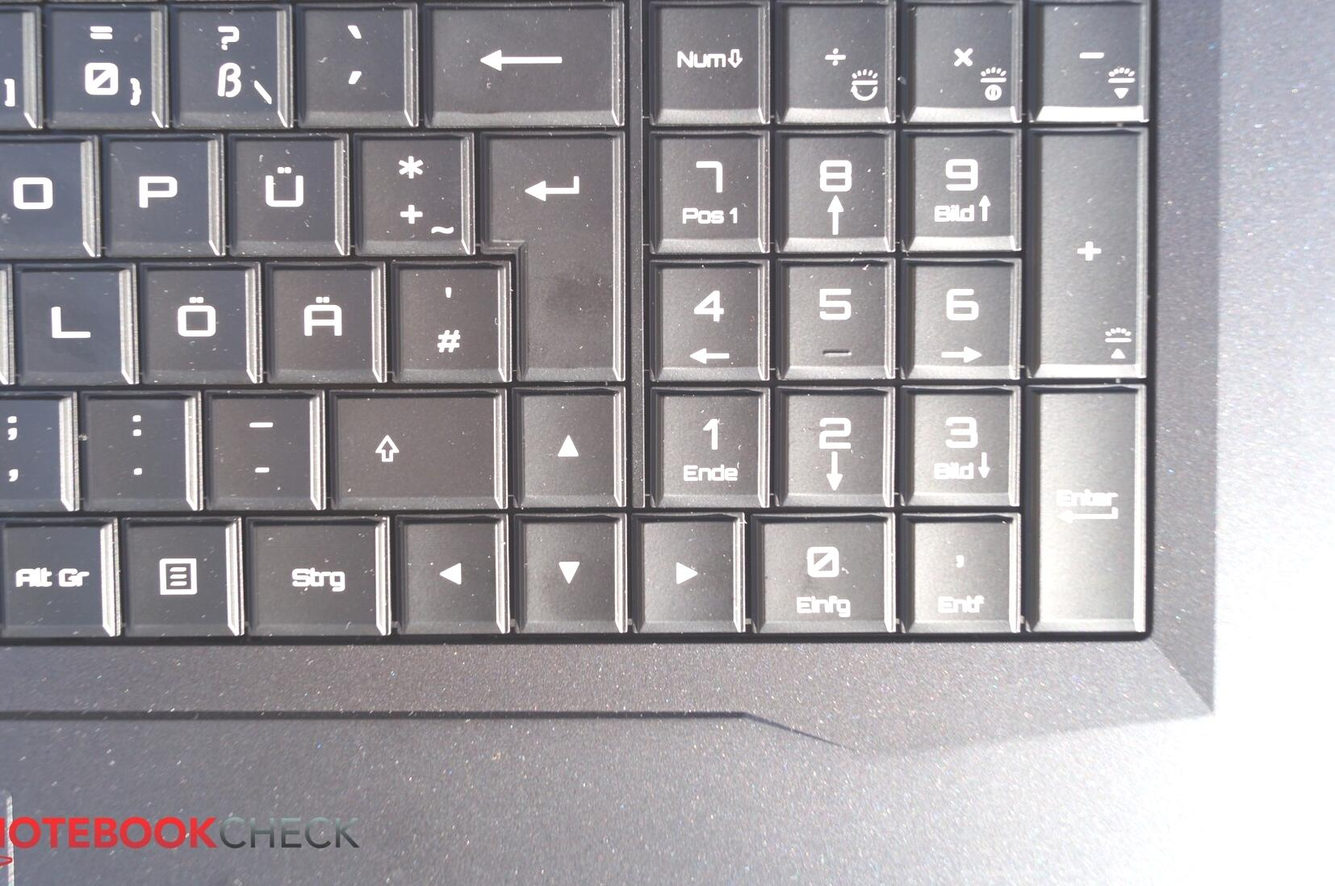0: (40, 1, 161, 127)
9: (1, 1, 61, 131)
accent: (294, 1, 411, 122)
ae: (260, 256, 380, 382)
altgr-right: (1, 512, 109, 635)
comma: (1, 385, 62, 508)
del: (415, 1, 624, 123)
enter: (475, 123, 628, 383)
hash: (387, 255, 503, 378)
i: (1, 129, 38, 256)
k: (1, 256, 58, 386)
keyboard: (1, 1, 1195, 719)
l: (10, 257, 125, 384)
m: (1, 388, 30, 516)
minus: (201, 384, 320, 508)
o: (1, 127, 92, 257)
oe: (133, 257, 256, 384)
p: (95, 126, 217, 254)
plus: (350, 126, 468, 253)
point: (77, 386, 193, 508)
shift-right: (324, 384, 505, 508)
space: (1, 514, 48, 633)
ss: (167, 1, 285, 126)
strg-right: (239, 511, 388, 636)
ue: (221, 127, 342, 255)
